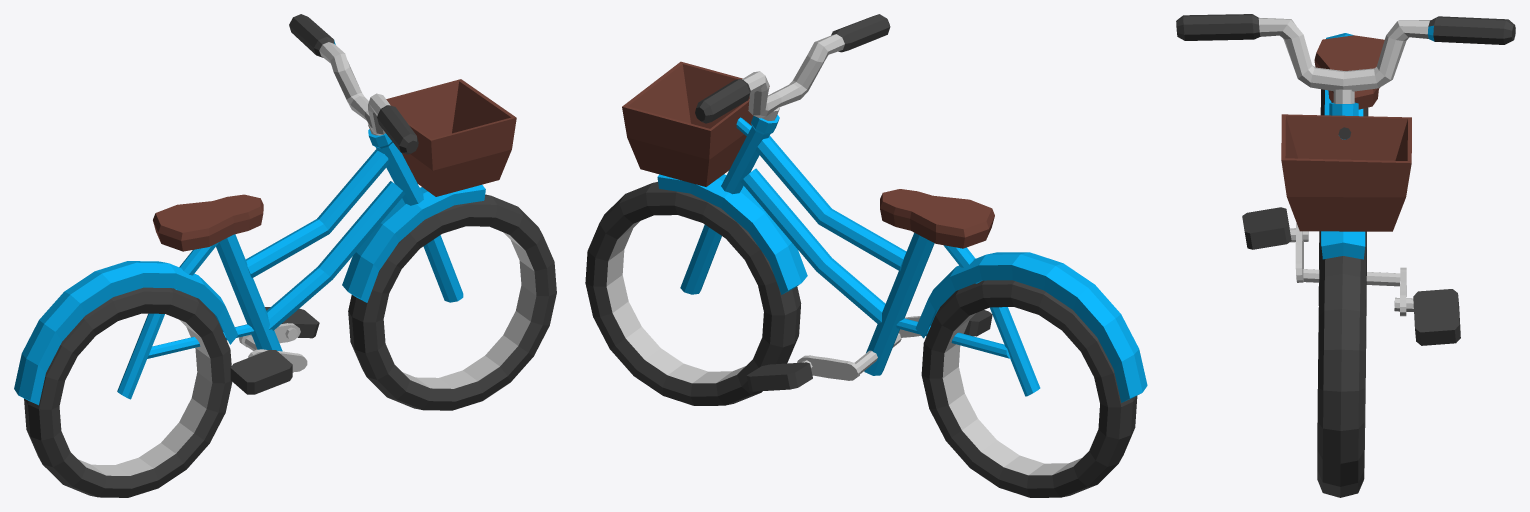
The picture shows the model from 3 angles, left to right: view 1: azimuth 30°, elevation 25°; view 2: azimuth 150°, elevation 25°; view 3: azimuth 270°, elevation 25°; orthographic projection. The views are drawn at different scales.
Parts seen in each view (by area): view 1: bike momo; view 2: bike momo; view 3: bike momo.
Boxes of the visible parts, x1,y1,x2,y2 form: bike momo: (14, 14, 556, 497); bike momo: (585, 14, 1147, 497); bike momo: (1176, 14, 1515, 497).
Size of the model in its own units: 5.51 by 3.65 by 2.62.
